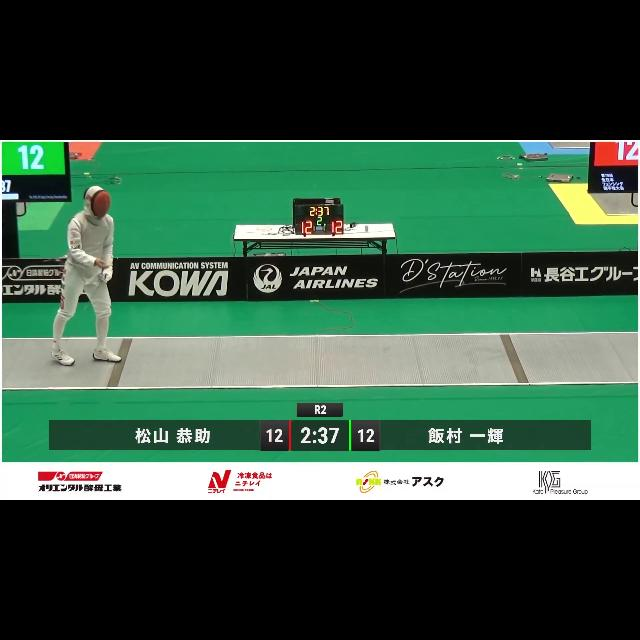blade: (78, 276, 109, 324)
